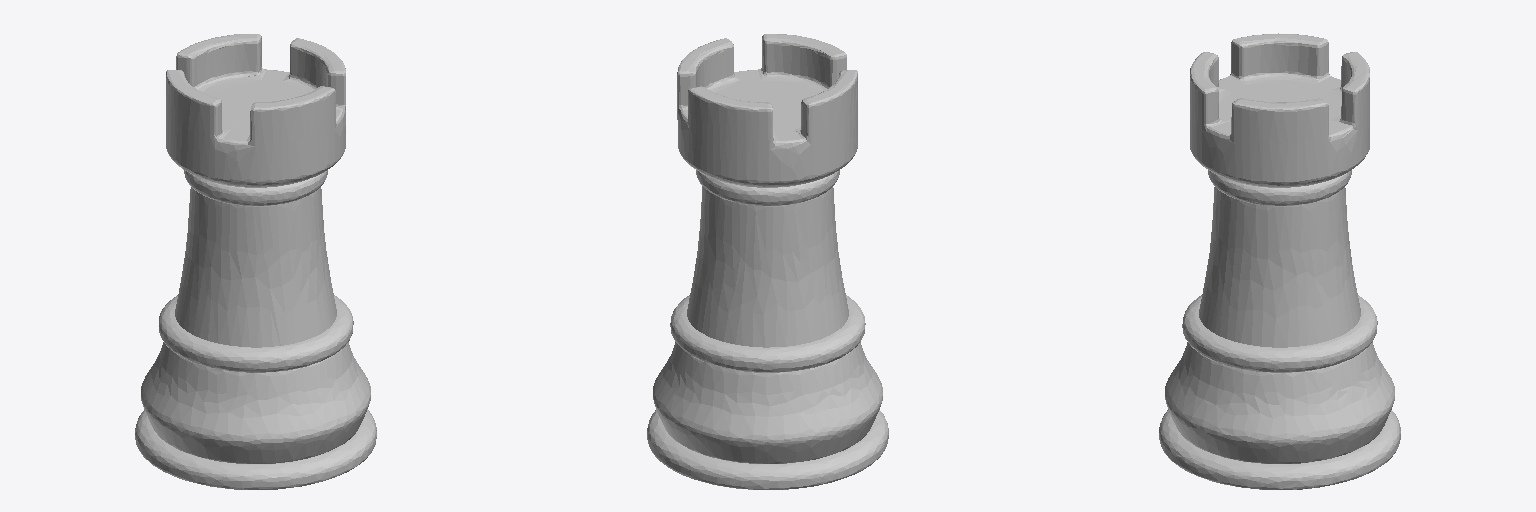
Rendered from chess.obj.
3 views of the same model, side by side, from view 1: azimuth 30°, elevation 25°; view 2: azimuth 150°, elevation 25°; view 3: azimuth 270°, elevation 25° (orthographic).
Visible parts, largest first — view 1: Rook.001; view 2: Rook.001; view 3: Rook.001.
Boxes of the visible parts, box(x1,y1,x2,y2) form: Rook.001: box(135, 34, 376, 489); Rook.001: box(647, 34, 888, 489); Rook.001: box(1159, 33, 1400, 489).
Size of the model in its own units: 24.99 by 42.29 by 24.99.